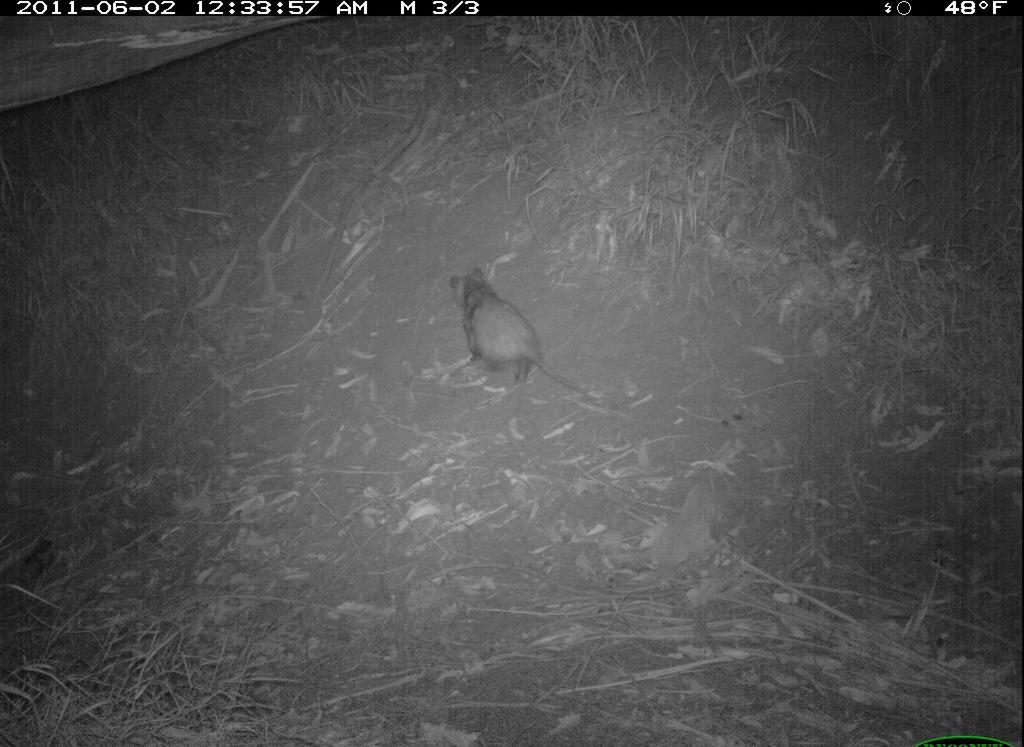opossum: (428, 269, 616, 423)
